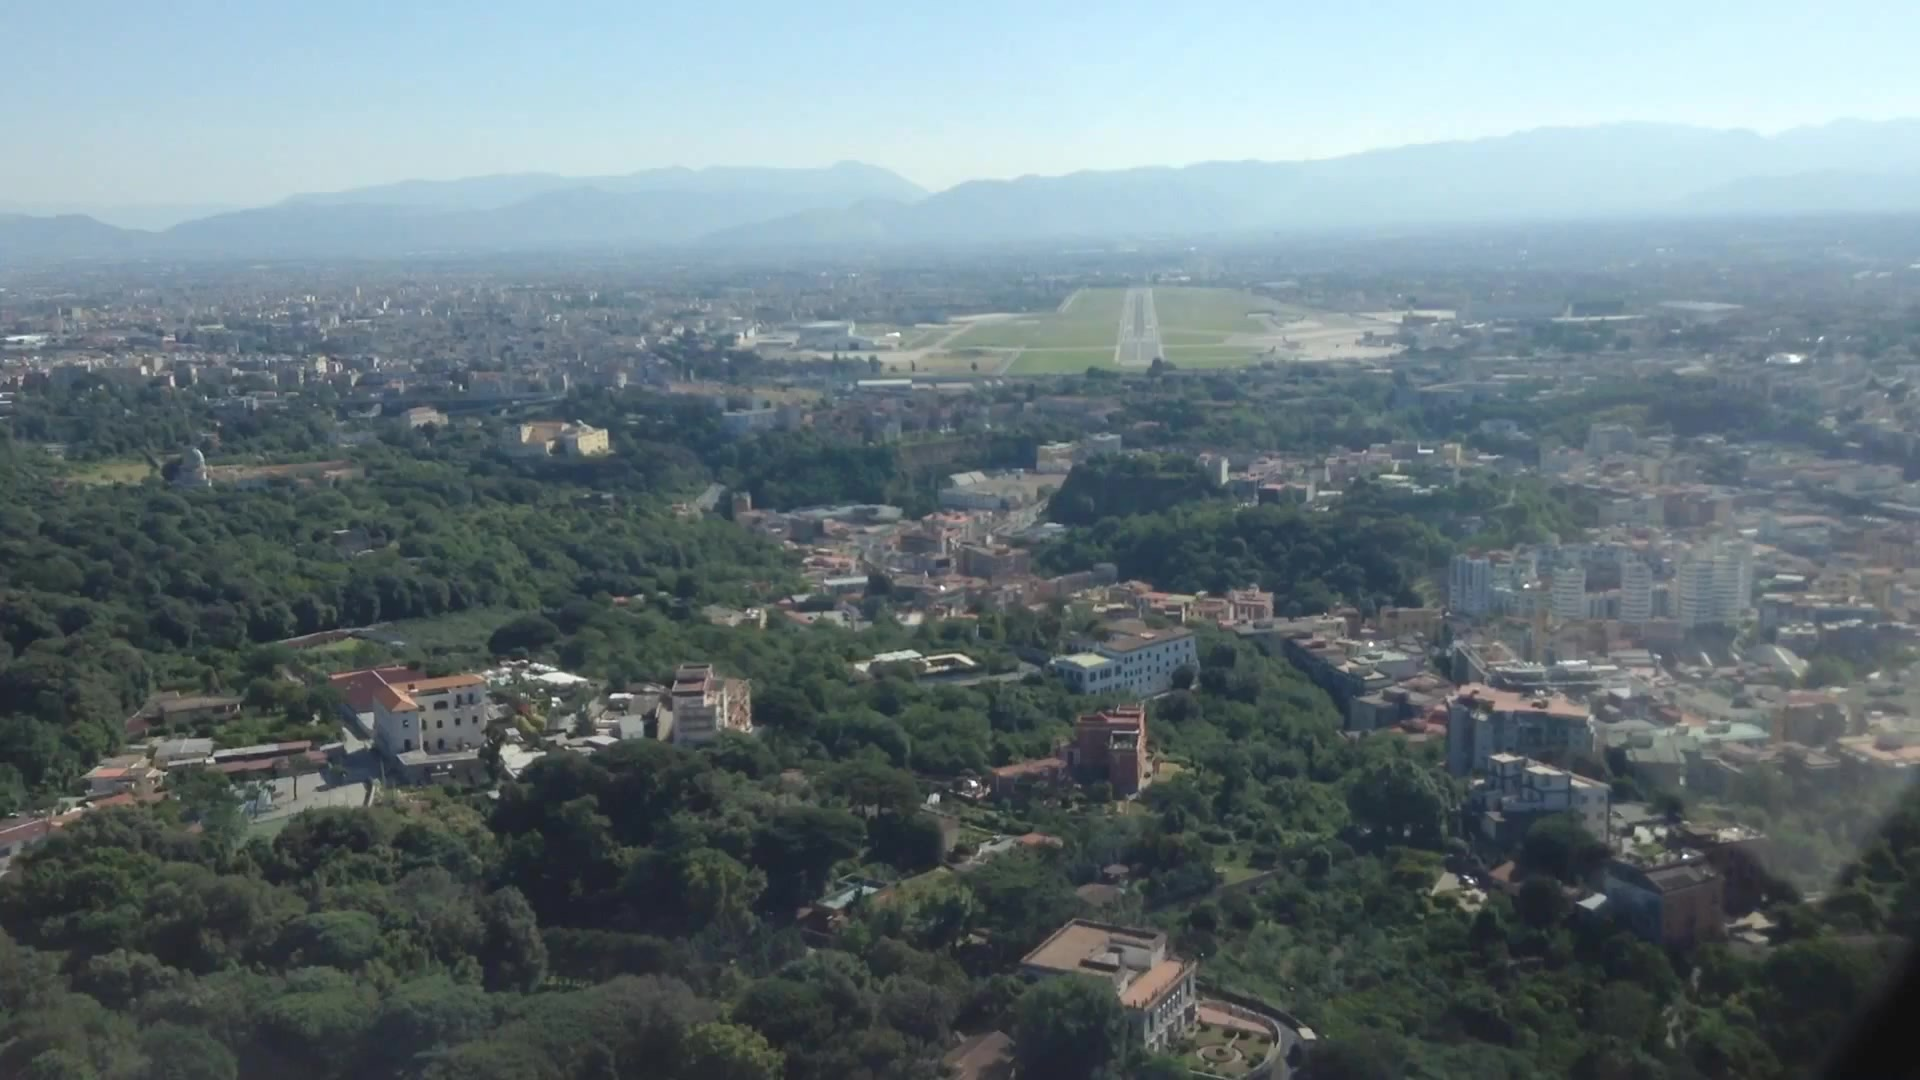runway: (1114, 284, 1166, 367)
